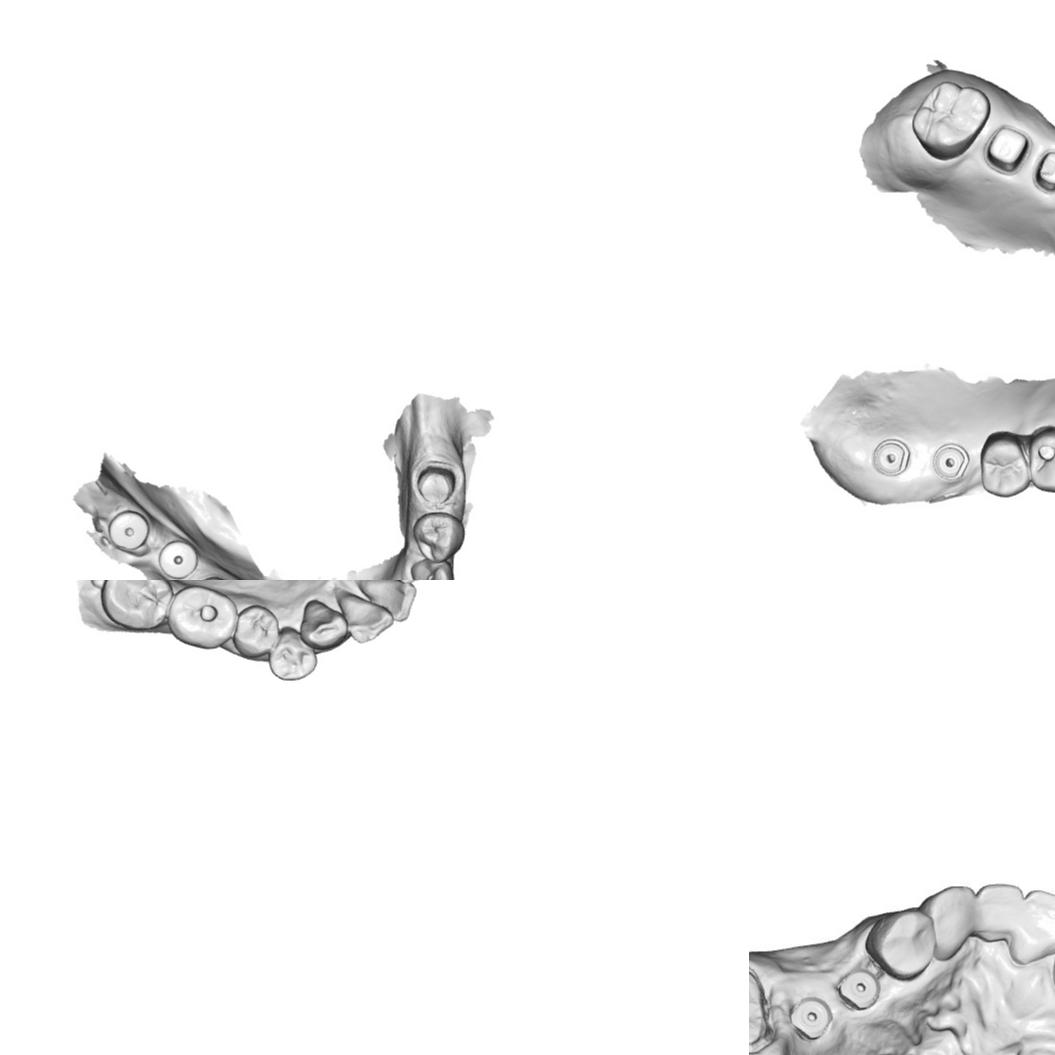abutment: (982, 117, 1033, 179), (1031, 140, 1055, 198)
canine: (928, 884, 977, 958), (298, 596, 350, 654), (409, 557, 454, 580)
crown: (749, 964, 778, 1053), (414, 462, 458, 506)
implant: (865, 431, 918, 485), (924, 435, 975, 488), (840, 969, 881, 1018), (791, 996, 833, 1041), (107, 509, 149, 551), (156, 538, 198, 580)
incisor: (336, 586, 396, 646), (1011, 887, 1055, 963), (979, 877, 1025, 943), (359, 580, 416, 625)
molar: (907, 77, 993, 168), (166, 584, 241, 651), (99, 580, 173, 632)
premolar: (868, 906, 934, 977), (978, 431, 1033, 499), (232, 602, 282, 661), (412, 511, 466, 563), (267, 627, 316, 682), (1026, 421, 1055, 495)
